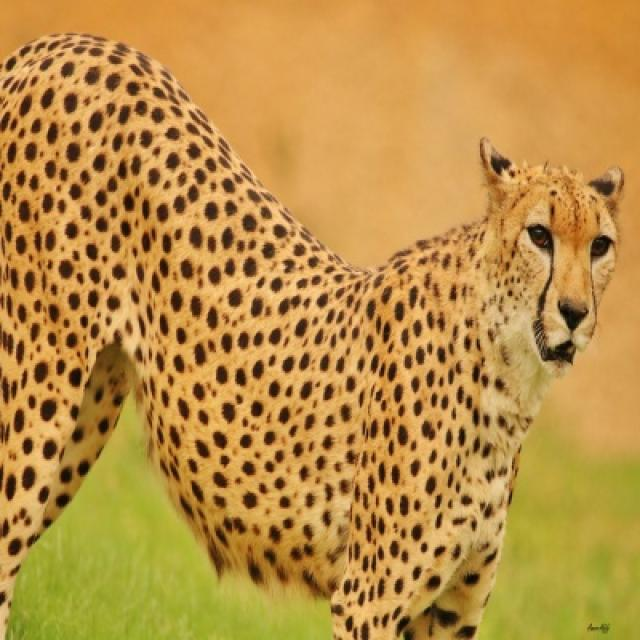Cheetah: (0, 34, 624, 638)
